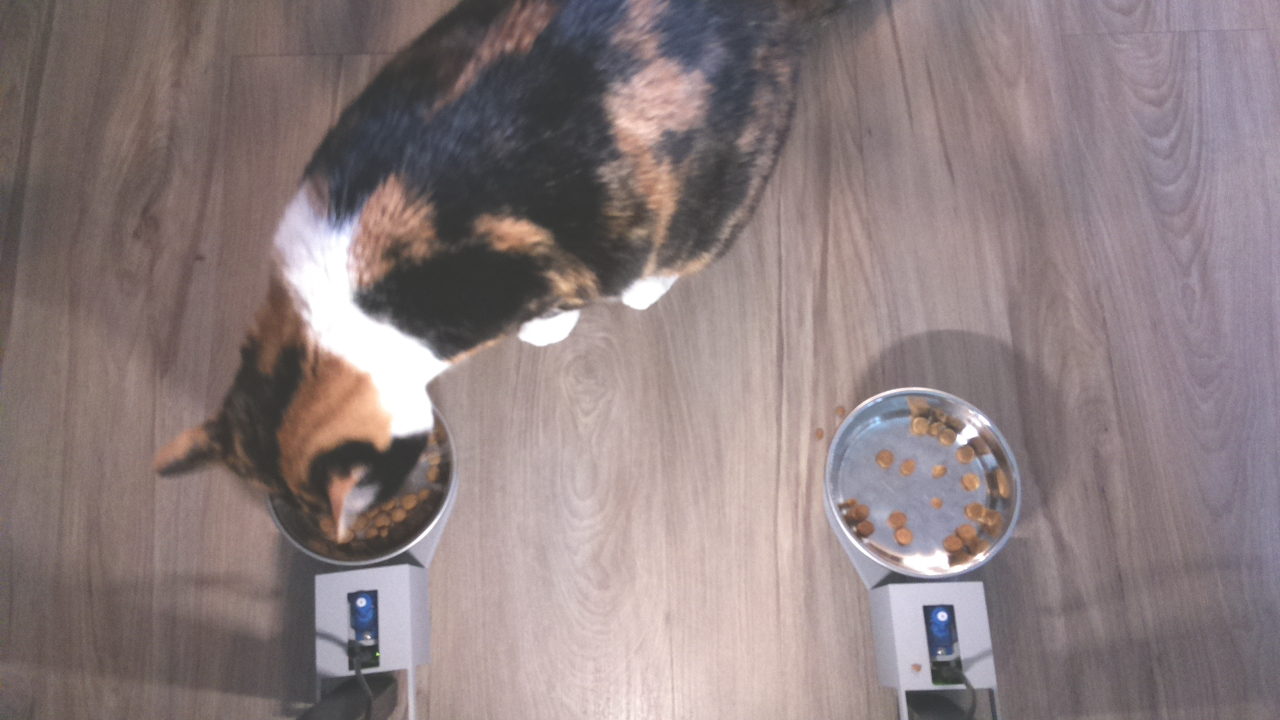bella_eating: (147, 241, 477, 575)
open_bowl: (820, 376, 1025, 584)
